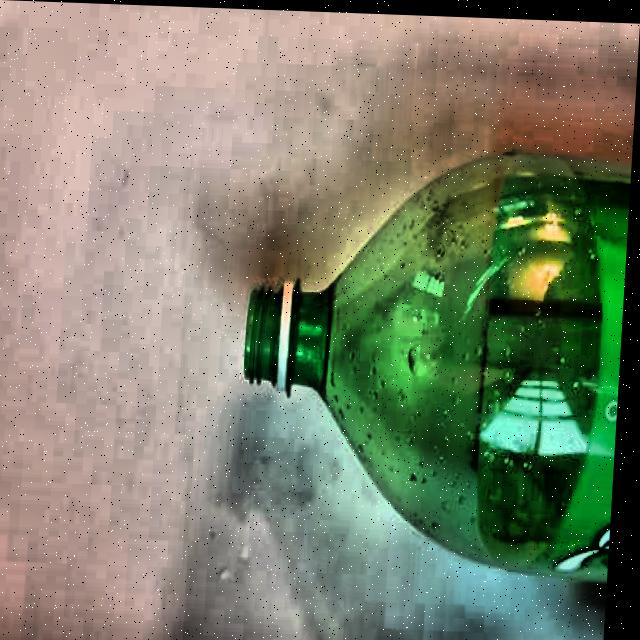plastic: (219, 143, 632, 589)
